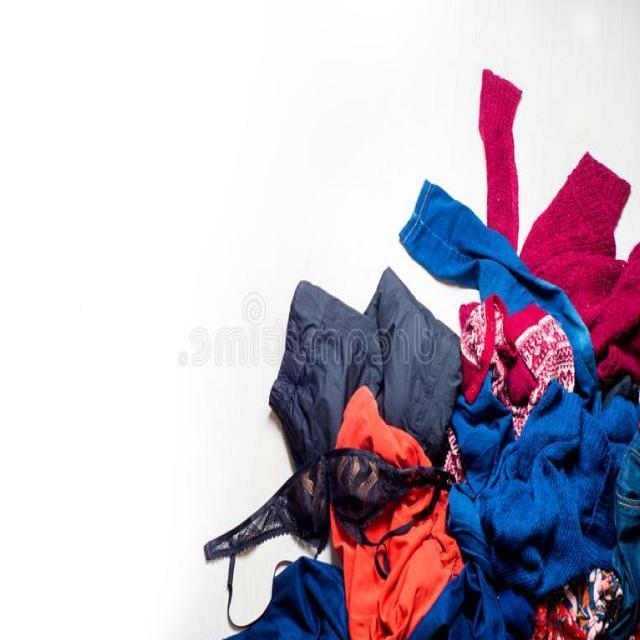clothes: (280, 134, 638, 640)
